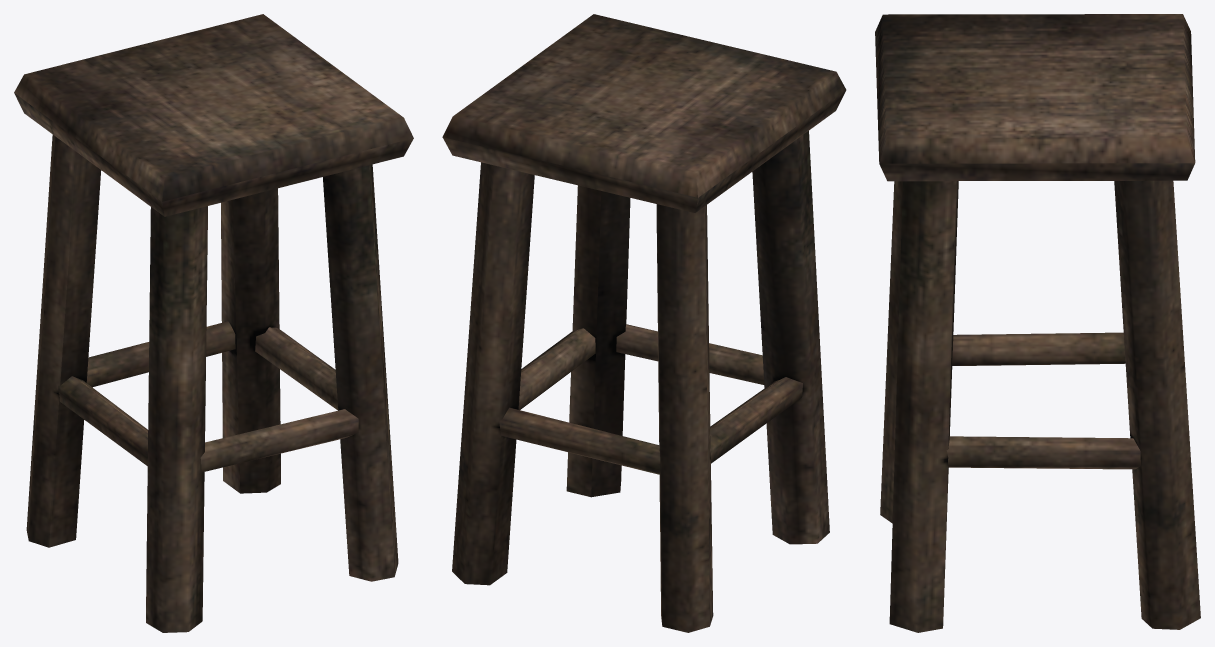
File: d_sg_shouyou_yizi02_qt.FBX
3 renders of one model, left to right at view 1: azimuth 30°, elevation 25°; view 2: azimuth 150°, elevation 25°; view 3: azimuth 270°, elevation 25°, orthographic. The views are drawn at different scales.
Parts seen in each view (by area): view 1: d_sg_shouyou_zhuozi02_qt; view 2: d_sg_shouyou_zhuozi02_qt; view 3: d_sg_shouyou_zhuozi02_qt.
Boxes of the visible parts, box(x1,y1,x2,y2) form: d_sg_shouyou_zhuozi02_qt: box(14, 14, 413, 632); d_sg_shouyou_zhuozi02_qt: box(442, 14, 846, 632); d_sg_shouyou_zhuozi02_qt: box(875, 14, 1200, 632).
Bounding box in the file's own units: 0.4577 × 0.7832 × 0.4726.
